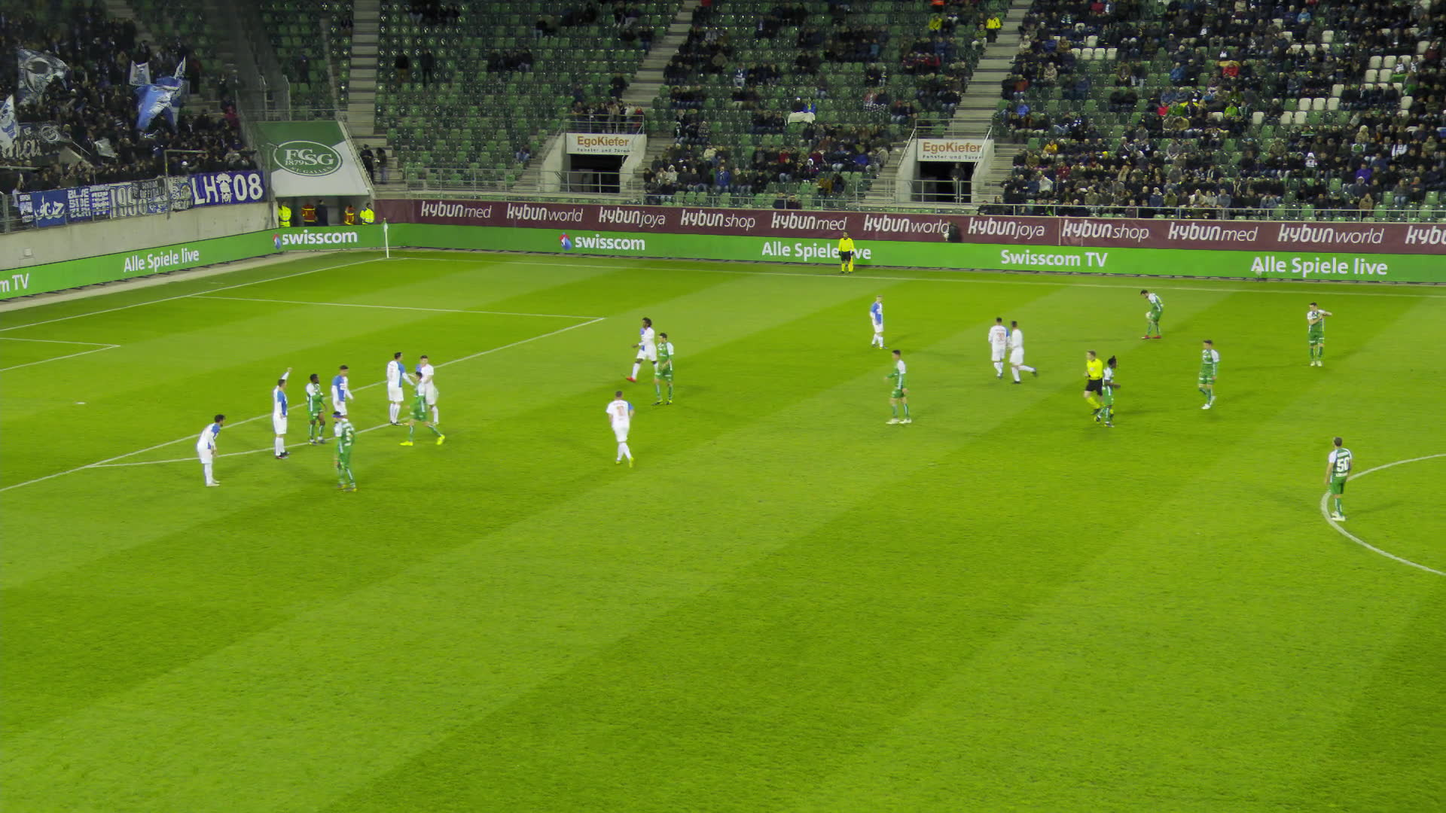ball: (1147, 312, 1153, 318)
player: (325, 411, 367, 492), (880, 350, 921, 424), (404, 370, 442, 444), (1324, 436, 1352, 520), (608, 392, 636, 467), (197, 414, 225, 486), (630, 316, 660, 382), (272, 366, 293, 459), (414, 355, 441, 426), (650, 333, 676, 405), (1195, 340, 1222, 409), (386, 352, 410, 425), (305, 373, 329, 446), (1095, 355, 1119, 428), (1306, 303, 1332, 367), (331, 364, 352, 437), (1011, 318, 1034, 383), (988, 316, 1008, 379), (1139, 290, 1164, 340), (868, 294, 889, 349)
referee: (1082, 352, 1111, 423), (838, 230, 855, 275)
